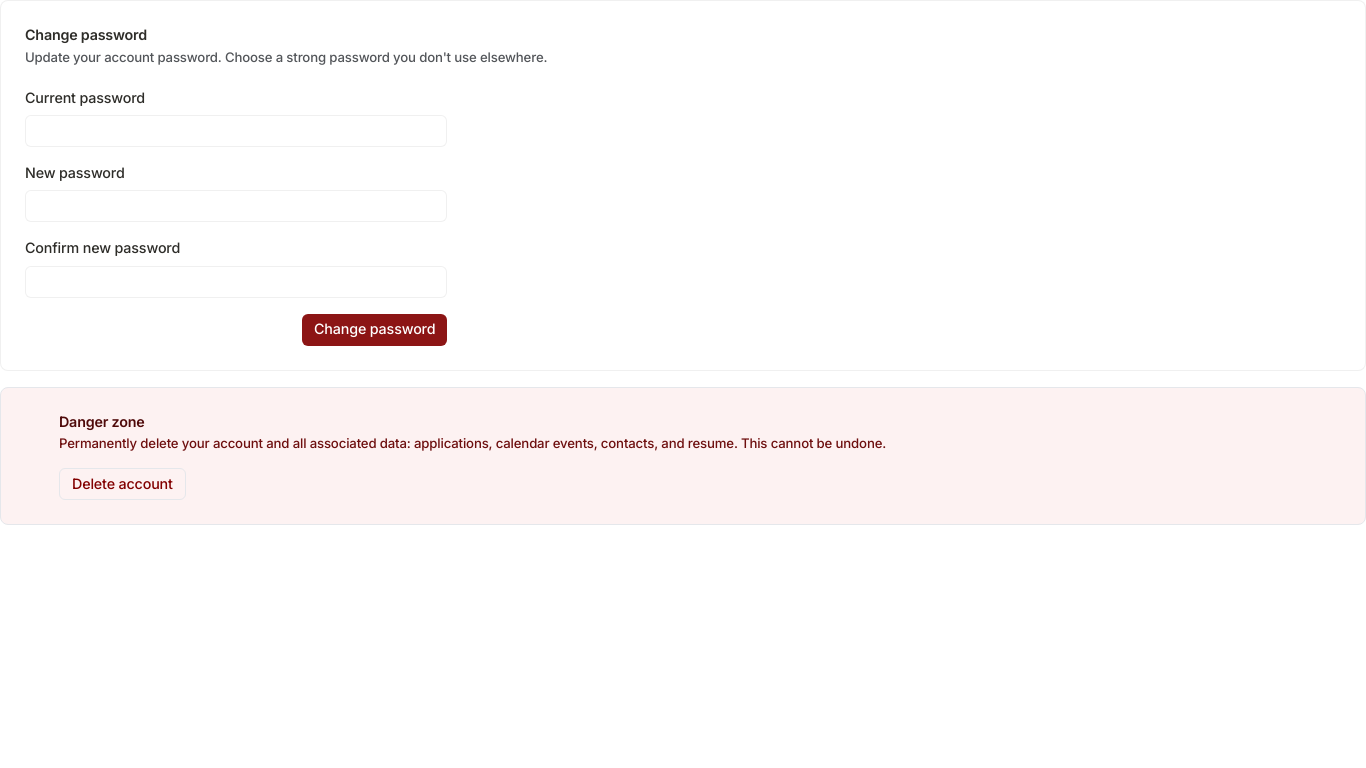
Test: DangerZone — modal interaction › should close modal when cancel is clicked
Click the button "Delete account" at (122,484), box [59,468,186,500]
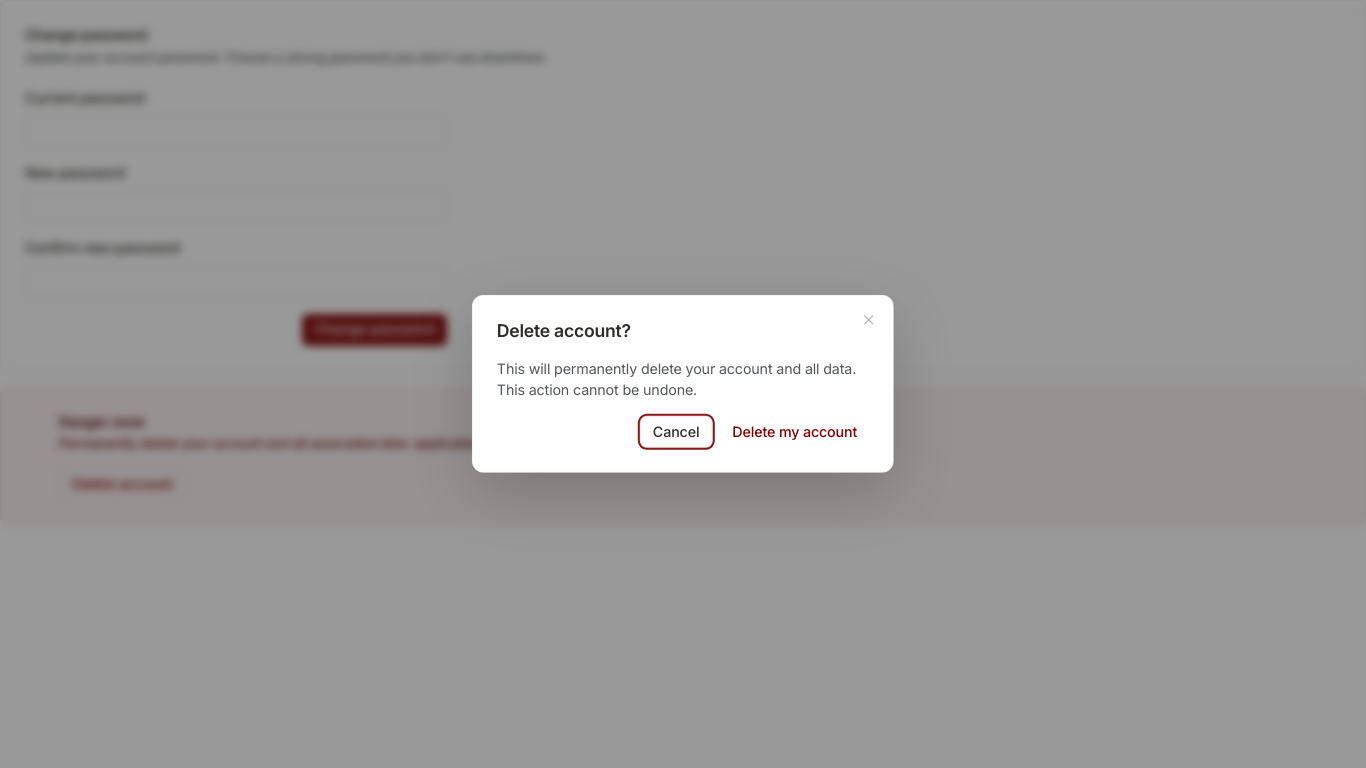
Click the button "Cancel" at (676,432), box [640,416,712,448]
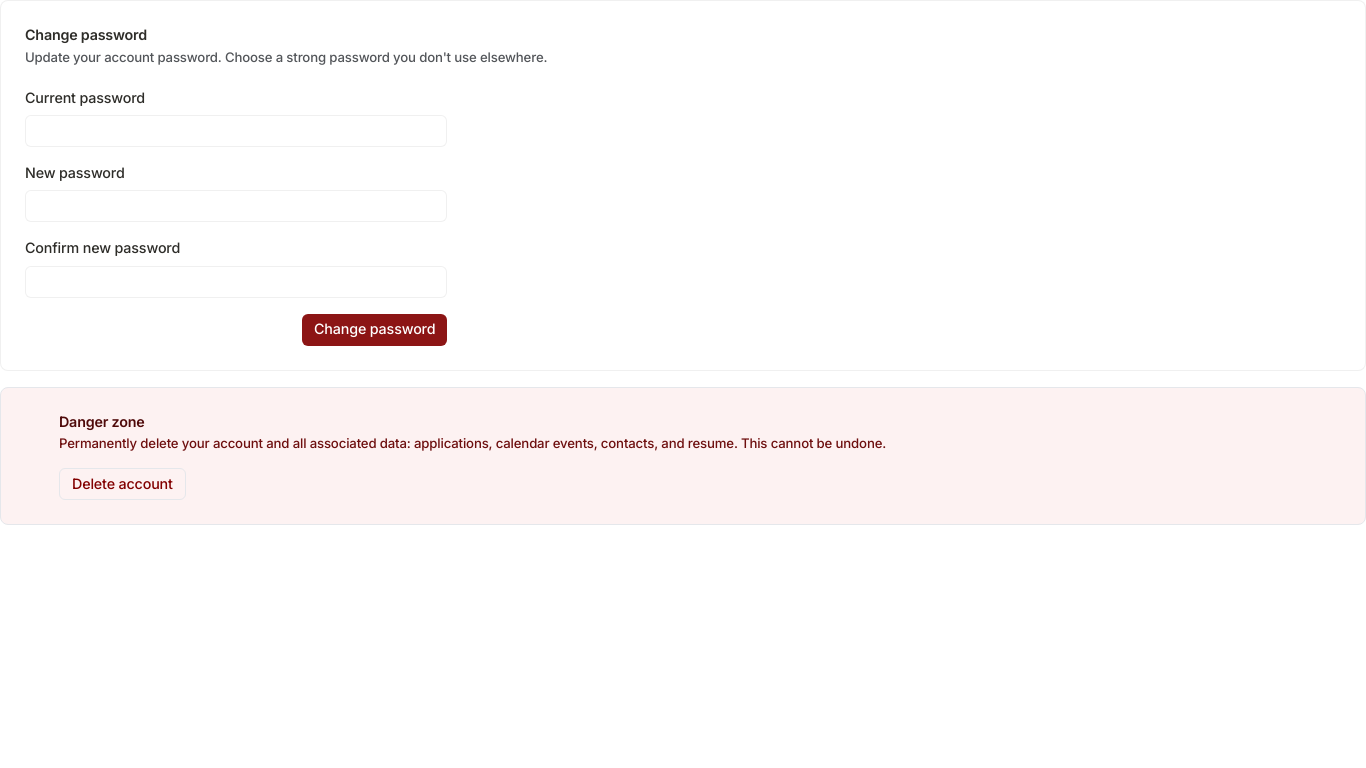
Expected: the dialog is gone
